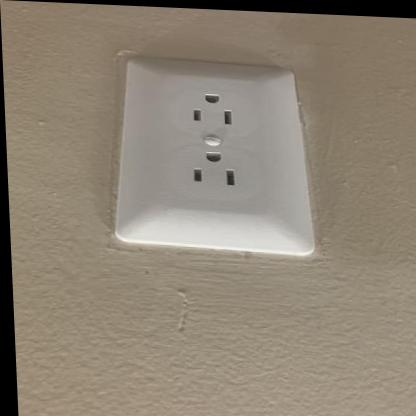OUTLET: (108, 54, 316, 259)
